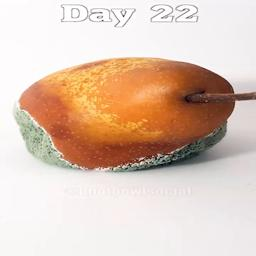Pear Rotten: (11, 55, 256, 176)
